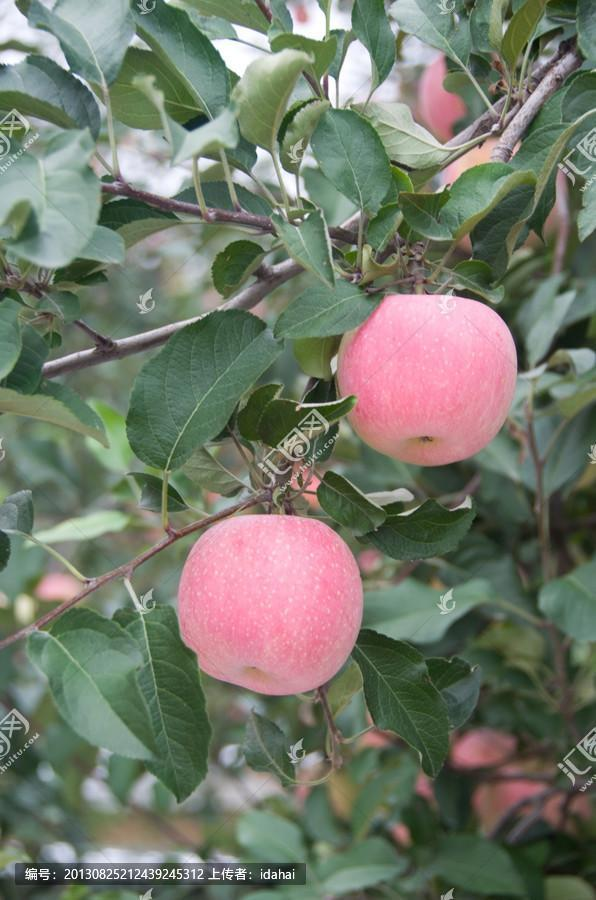apple: (179, 502, 363, 678), (337, 291, 516, 468)
